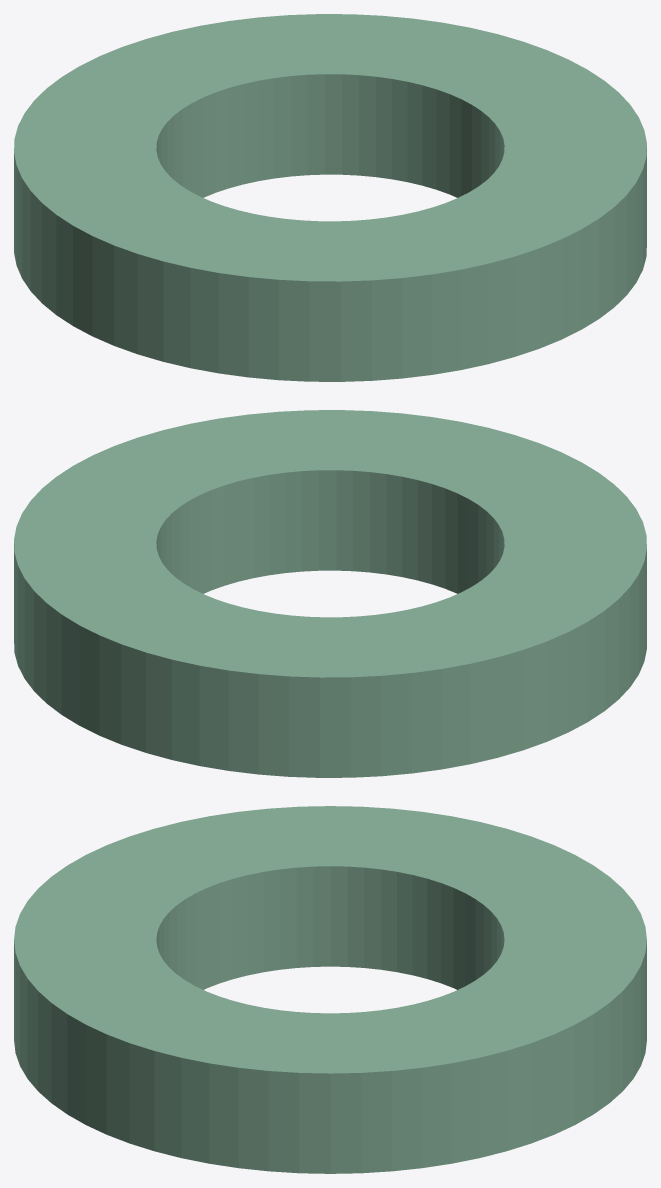
Rendered from debug_ring.glb.
3 renders of one model, top to bottom at view 1: azimuth 30°, elevation 25°; view 2: azimuth 150°, elevation 25°; view 3: azimuth 270°, elevation 25°, orthographic.
Parts seen in each view (by area): view 1: world; view 2: world; view 3: world.
Part boxes in pixels (left/top/right/bottom): world: left=14, top=14, right=646, bottom=381; world: left=14, top=410, right=646, bottom=777; world: left=14, top=806, right=646, bottom=1173.
Bounding box in the file's own units: 0.2 × 0.035 × 0.2.
